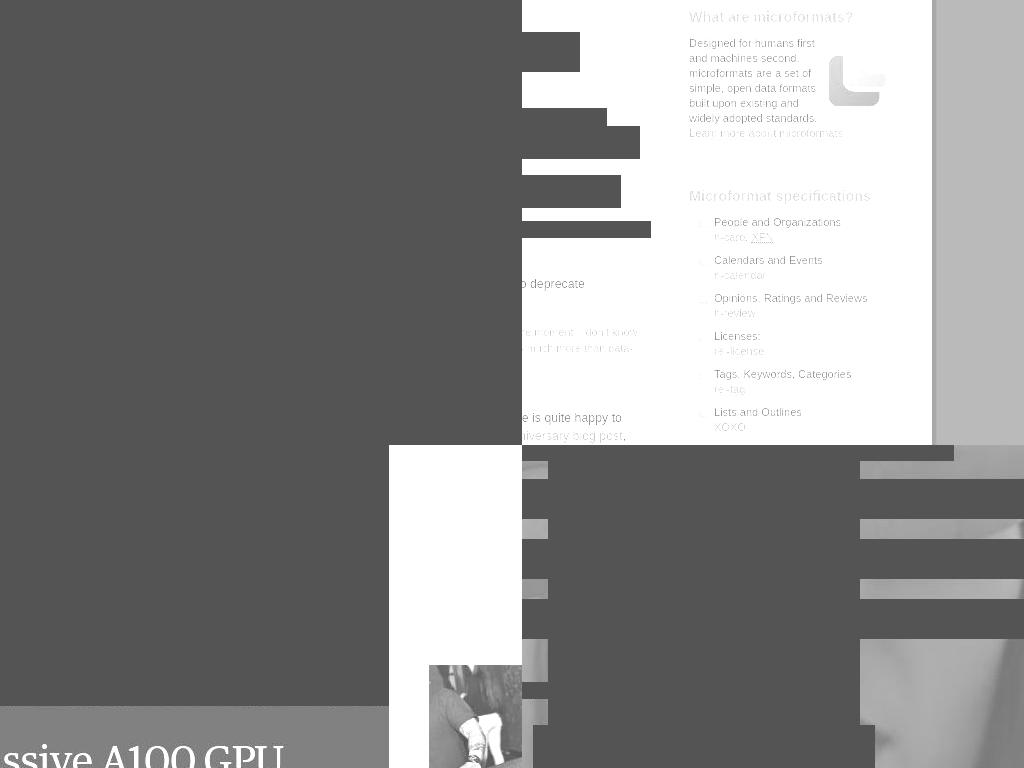button: (0, 706, 389, 768), (429, 665, 522, 768), (522, 108, 607, 142), (689, 127, 856, 141), (522, 429, 623, 445), (284, 0, 462, 8), (714, 269, 766, 283), (714, 345, 764, 359), (714, 307, 756, 321), (714, 421, 746, 435), (714, 231, 745, 245), (714, 383, 745, 397), (751, 231, 775, 245)
field: (522, 599, 1024, 639), (533, 725, 875, 768), (714, 479, 1024, 519), (714, 539, 1024, 579), (522, 479, 694, 519), (522, 539, 694, 579)
heading: (548, 445, 860, 768), (0, 320, 522, 413), (216, 364, 522, 413), (0, 741, 283, 768), (522, 445, 954, 461), (689, 188, 894, 205), (689, 9, 894, 25)
image: (0, 0, 522, 445), (0, 445, 389, 706), (19, 451, 119, 601), (429, 665, 522, 768), (828, 44, 892, 108), (284, 0, 462, 8)
link: (166, 51, 270, 69), (648, 682, 749, 699), (530, 682, 619, 699), (433, 51, 506, 69), (285, 51, 346, 69), (361, 51, 417, 69), (102, 51, 151, 69), (751, 231, 775, 245)
text: (689, 37, 817, 125), (522, 325, 637, 370), (522, 275, 651, 312), (522, 126, 640, 159), (522, 411, 622, 444), (522, 175, 621, 208), (699, 215, 894, 231), (699, 253, 894, 269), (699, 291, 894, 307), (699, 329, 894, 345), (699, 367, 894, 383), (699, 405, 894, 421), (522, 221, 651, 238), (522, 193, 616, 208), (619, 682, 648, 699), (745, 231, 752, 244)
